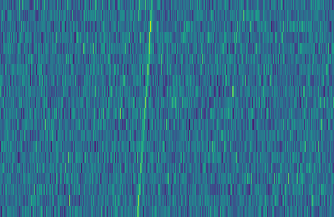signal: (133, 0, 157, 217)
